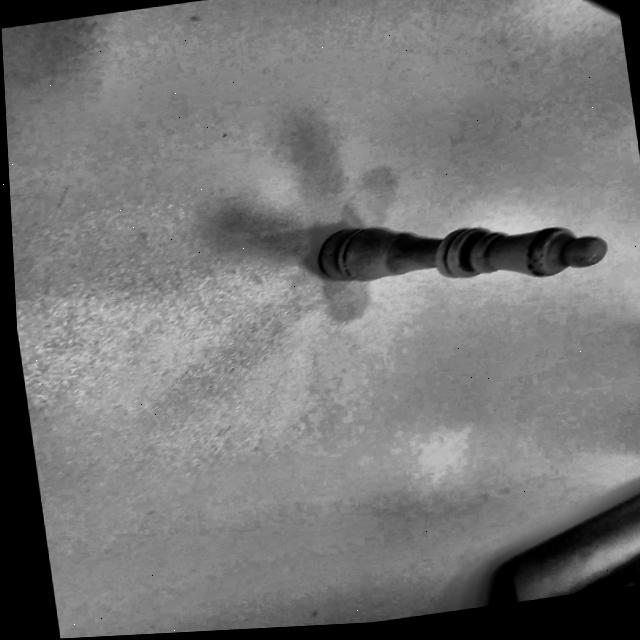white-queen: (281, 189, 640, 317)
